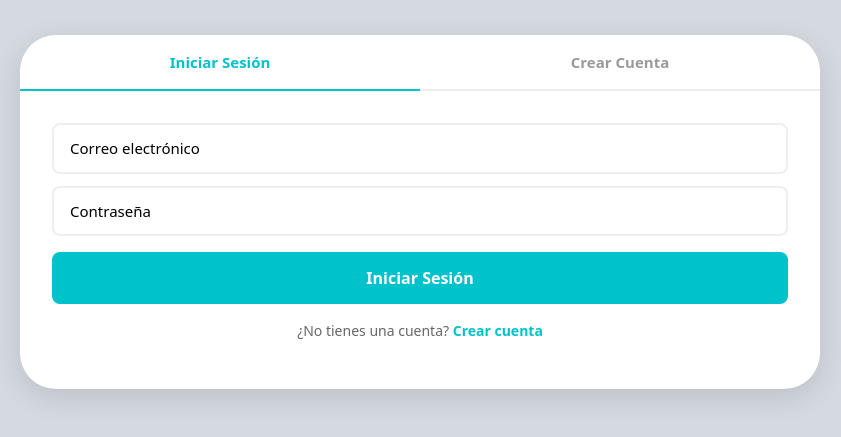
Test case: LoginRegister › muestra error al enviar login con email vacio
The image size is (841, 437).
Step 1. Click the 2nd button "Iniciar Sesión" → [420, 278], box x1=52 y1=252 x2=788 y2=304
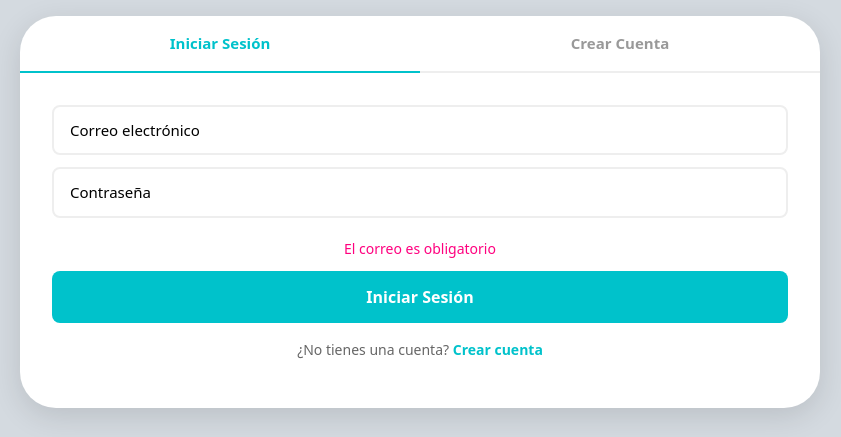
Now the text "El correo es obligatorio" is shown, box x1=344 y1=239 x2=496 y2=258
